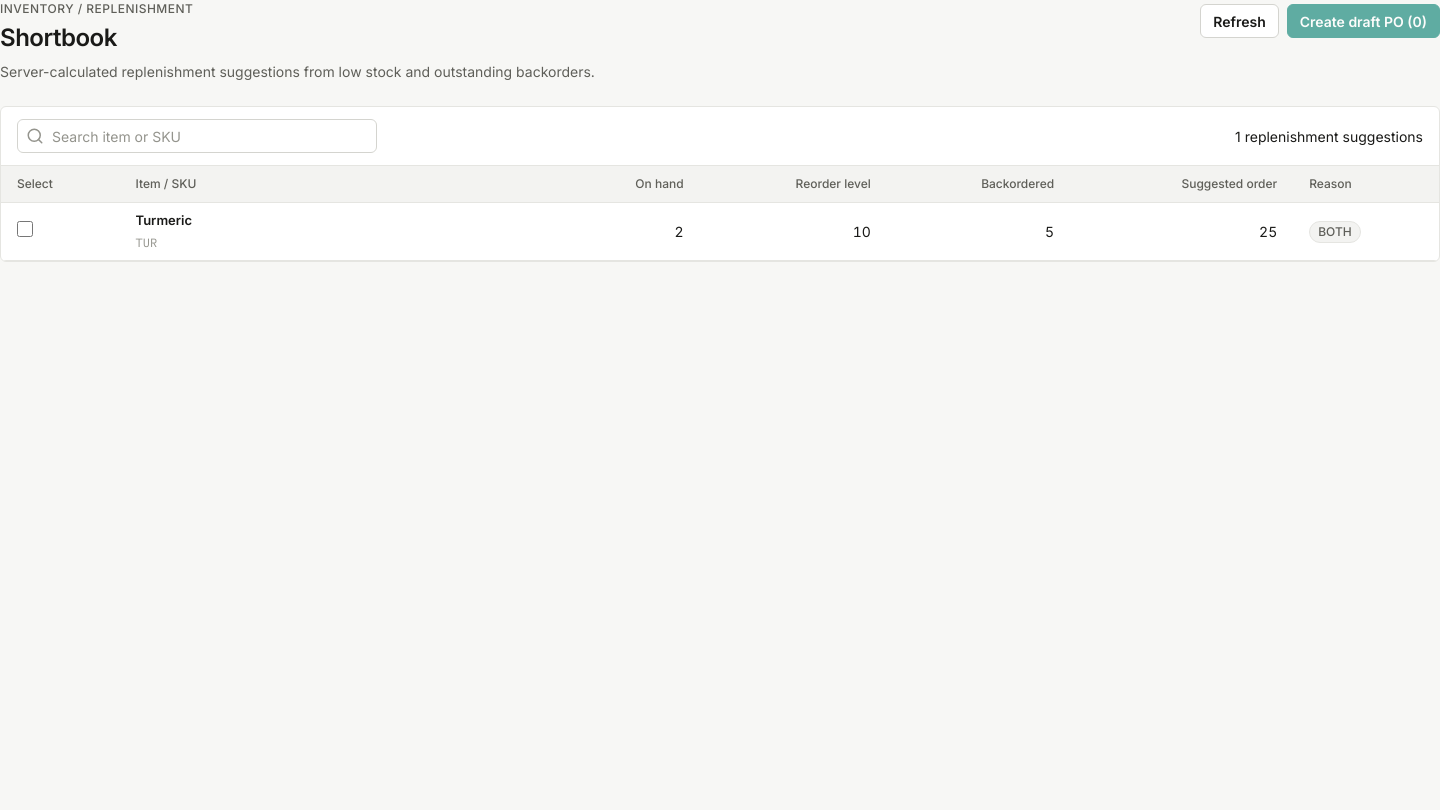
Scenario: does not silently create a zero-price PO when the item purchase rate is missing
Click the checkbox named "Select Turmeric".
click(25, 229)  # box [17,221,33,237]
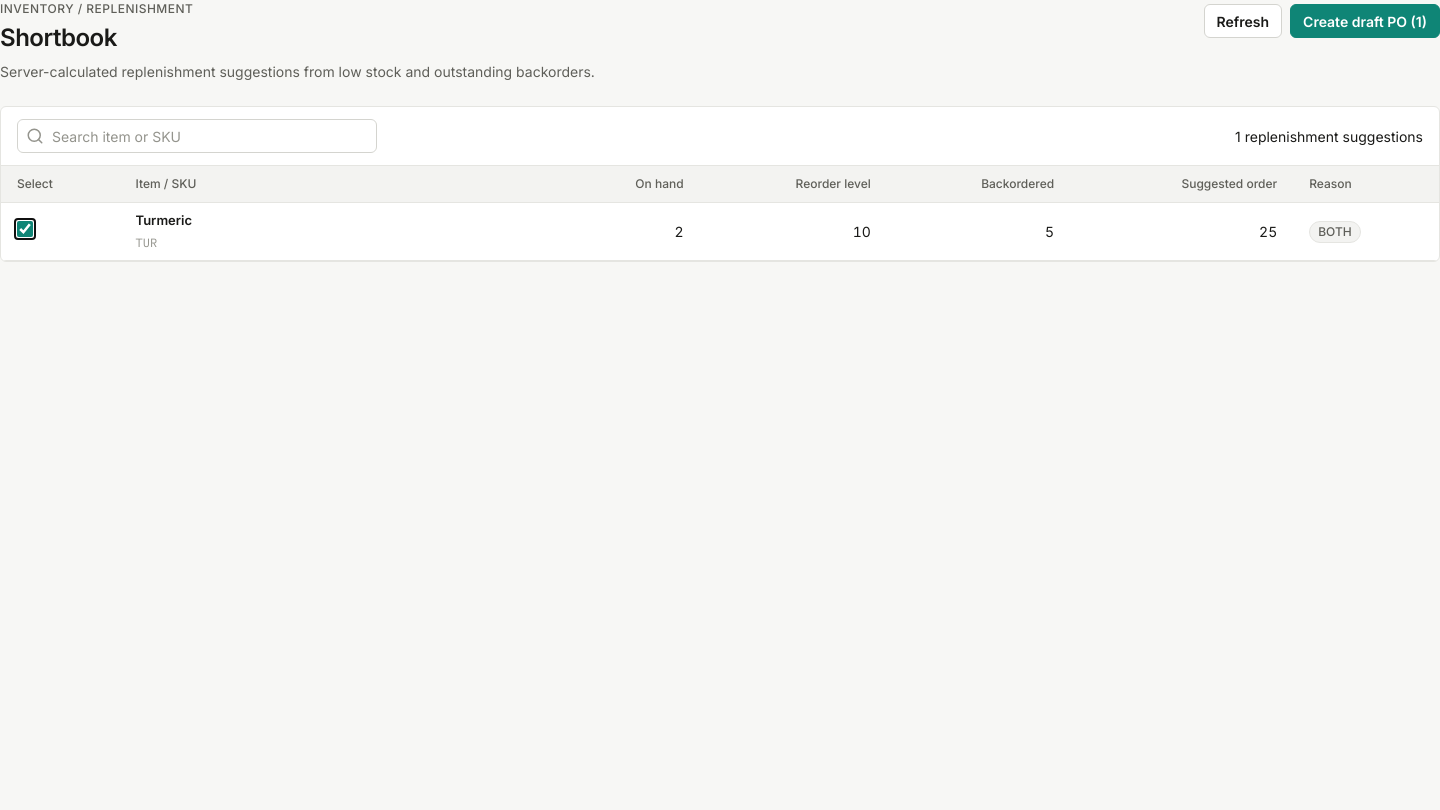
Click the button "Create draft PO (1)".
click(1365, 21)  # box [1290,4,1439,38]
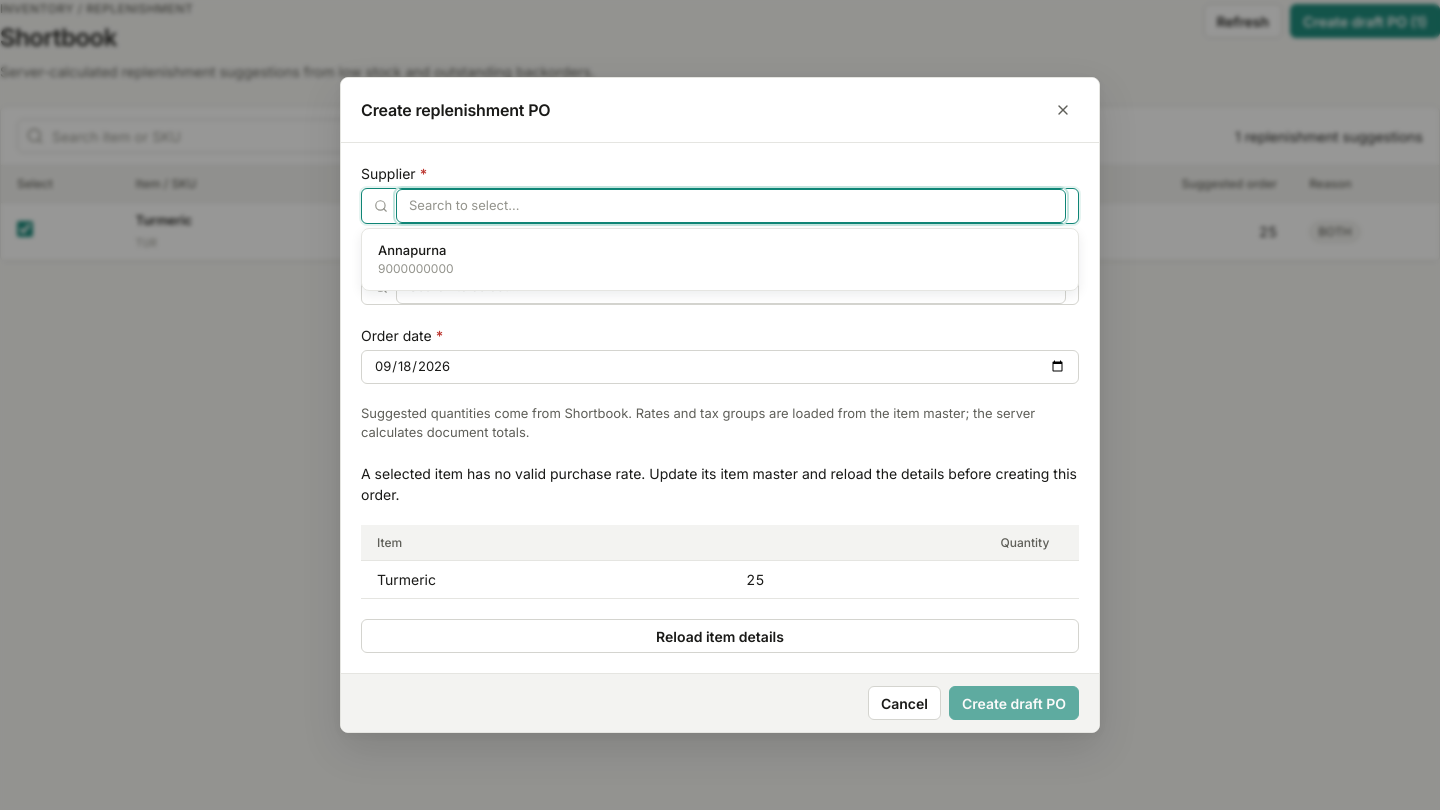
Check: the message shows "no valid purchase rate", box [361,465,1077,503]
Check: the button "Create draft PO" is disabled, box [949,686,1079,720]
